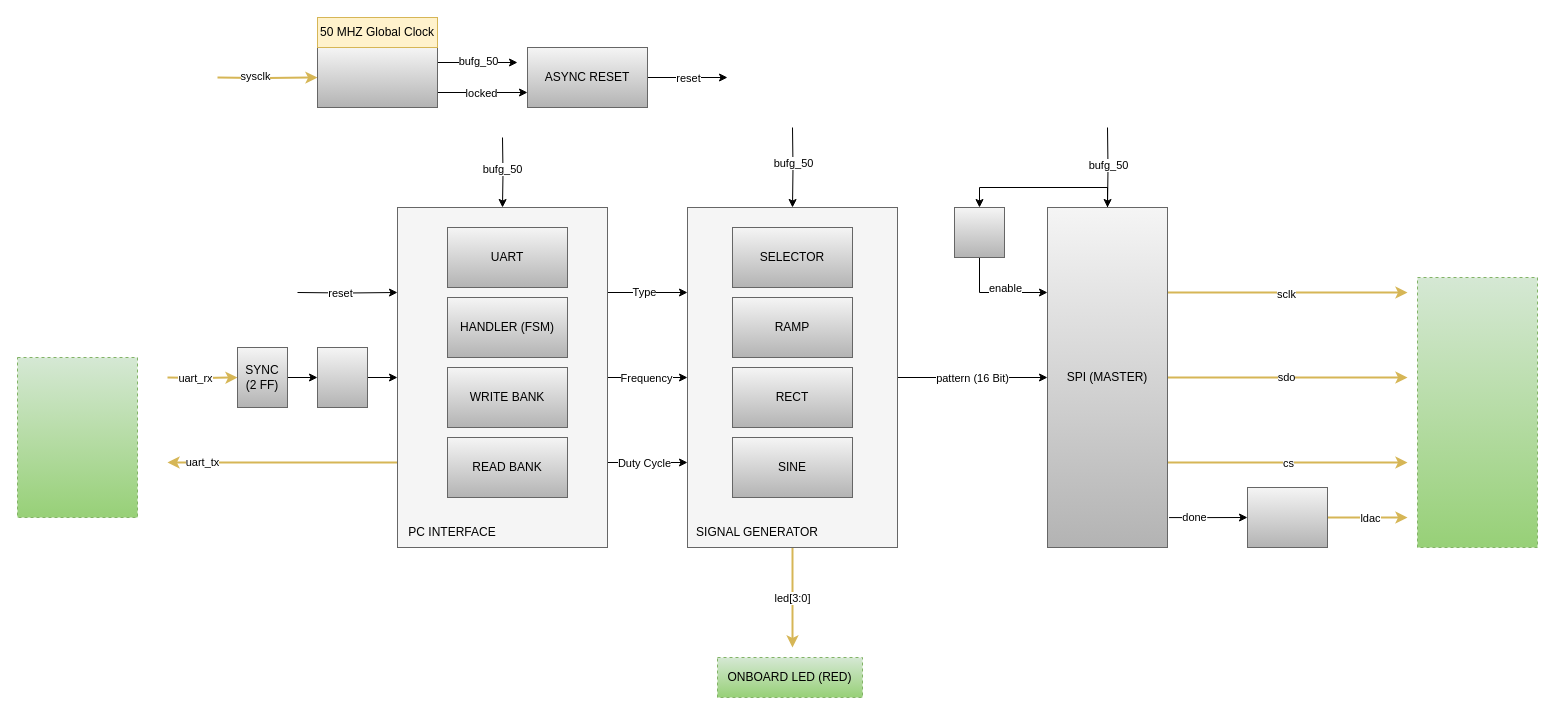
Some shapes in this 1555 by 715 pixel diagram are drawn without their labels. The shapes that lost their labels are listed below. From the top down, each one's box as (x1, y1, x2, y2) in pixels, then its label:
(316, 46, 438, 108): PLL
(954, 206, 1004, 258): WAIT
(316, 346, 368, 408): FILTER
(1416, 276, 1538, 548): PMOD DAC (16 Bit)
(16, 356, 138, 518): PMOD USB <=> UART
(1246, 486, 1328, 548): SHIFT_REG
